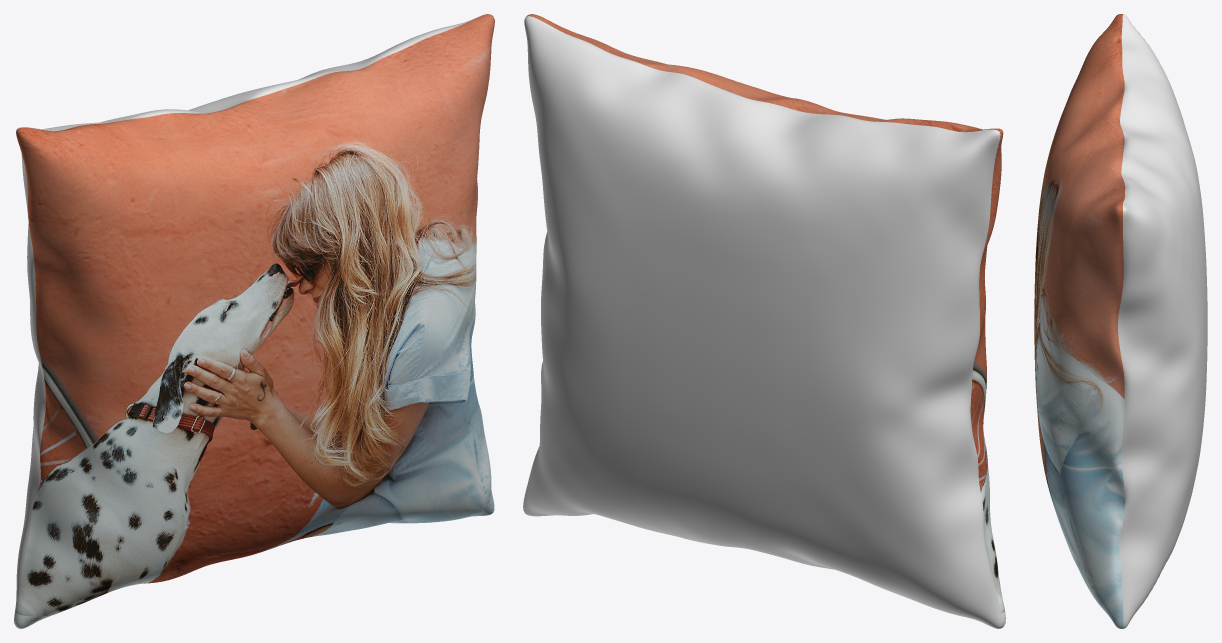
The model's file is cushion.glb.
3 renders of one model, left to right at view 1: azimuth 30°, elevation 25°; view 2: azimuth 150°, elevation 25°; view 3: azimuth 270°, elevation 25°, orthographic. The views are drawn at different scales.
Parts seen in each view (by area): view 1: Front, Back; view 2: Back, Front; view 3: Front, Back.
Boxes of the visible parts, x1,y1,x2,y2 form: Front: (14, 14, 494, 628); Back: (14, 14, 486, 622); Back: (523, 16, 1002, 628); Front: (526, 14, 1005, 628); Front: (1034, 14, 1125, 628); Back: (1118, 14, 1207, 628).
Bounding box in the file's own units: 1.51 × 1.5 × 0.5602.
Materials: 2 (1 with a texture image).
